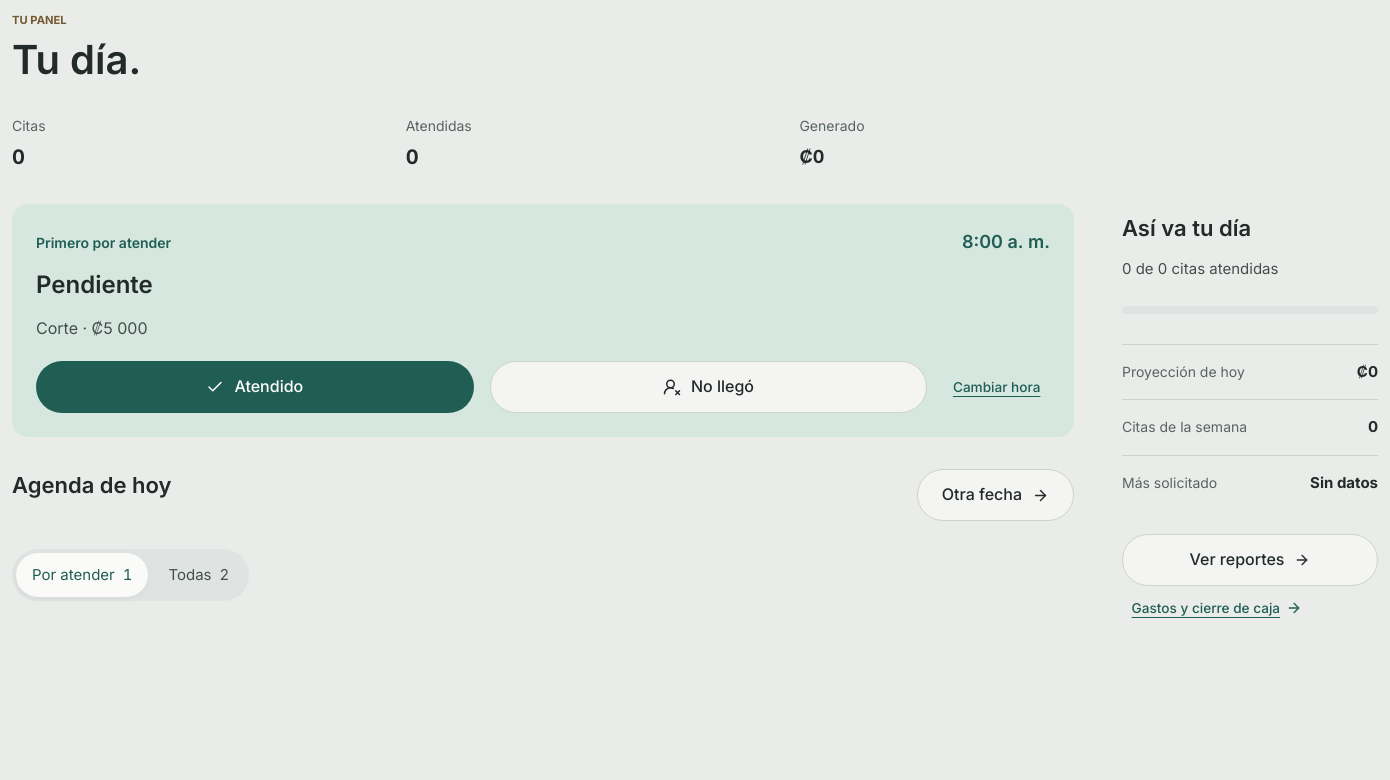
Navegación del panel › muestra por atender y permite revisar las citas completadas
Expected: the heading "Pendiente" is shown, [36,270,153,299]
Step 1. Click the button "Todas 2" → (199, 575), box [152,553,245,597]
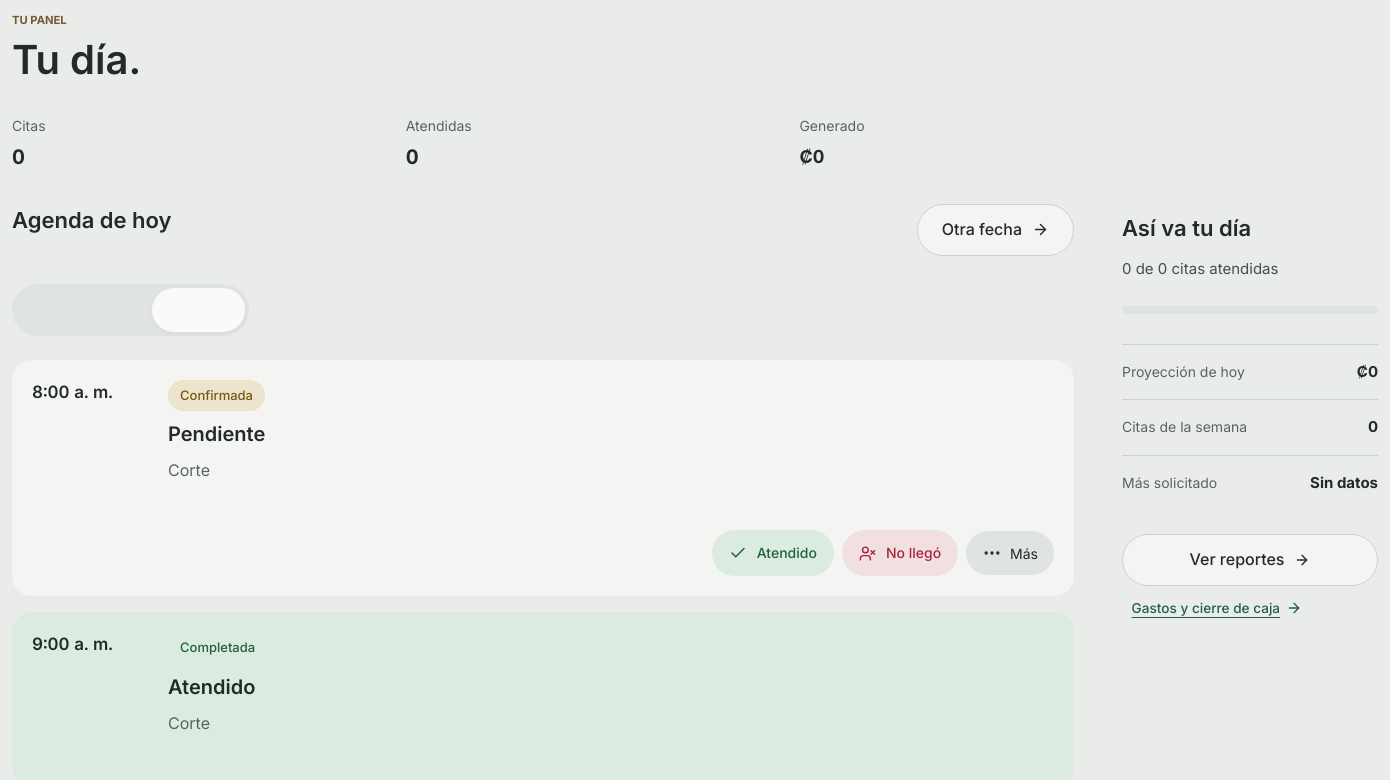
Expected: the heading "Atendido" is shown, [168,675,255,699]
